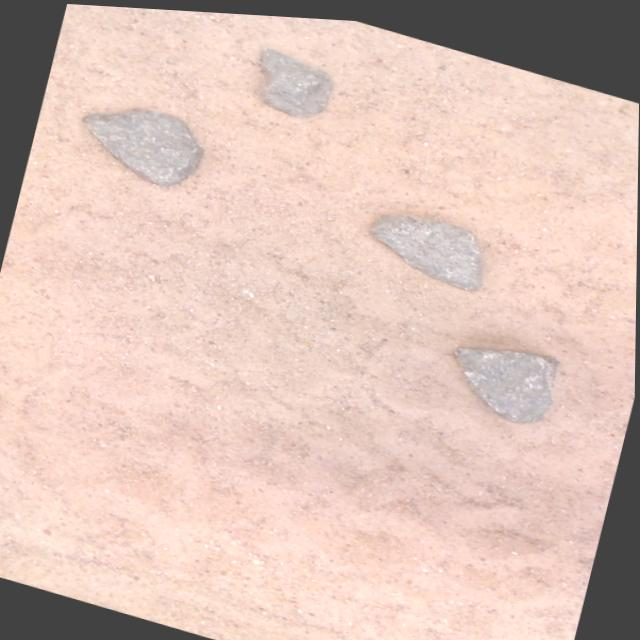rock: (81, 107, 201, 184), (369, 209, 480, 284), (454, 342, 557, 415), (260, 46, 330, 113)
